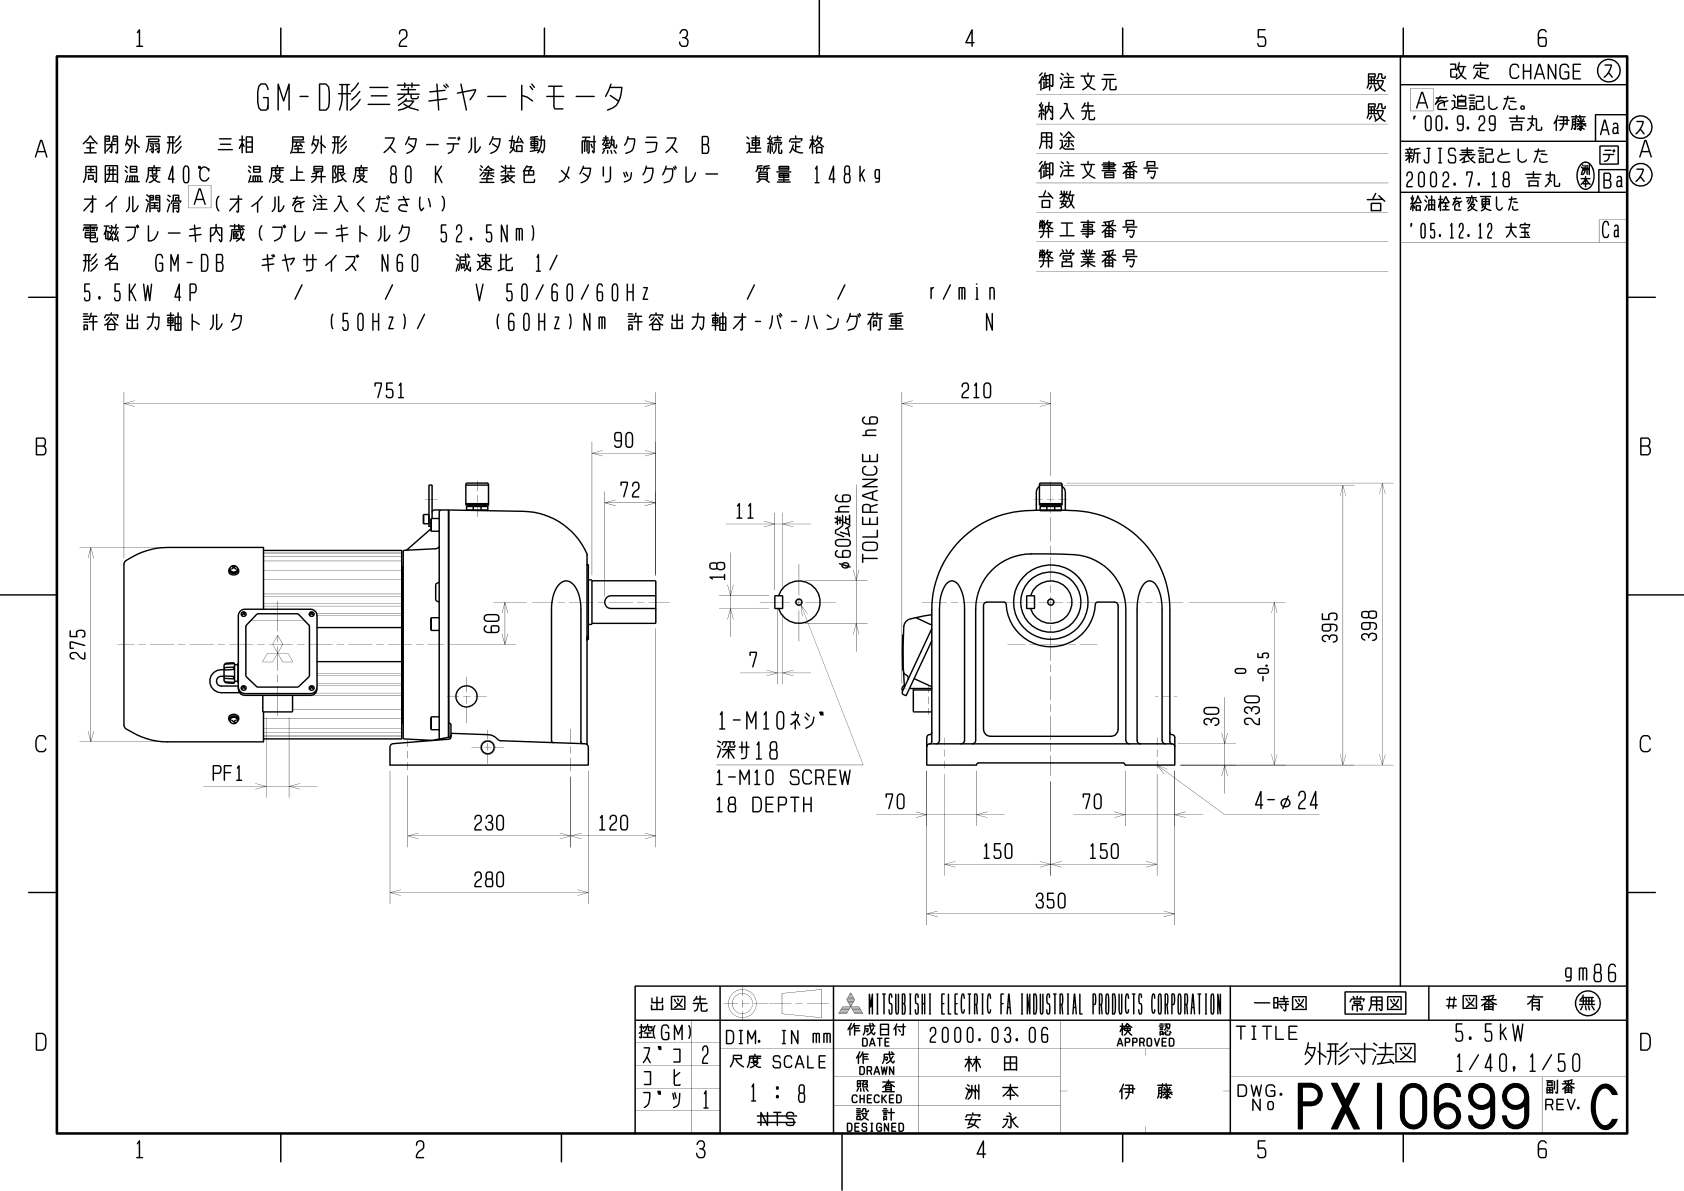GM_D_屋外＿三相_脚: (1, 1, 1678, 1176)
